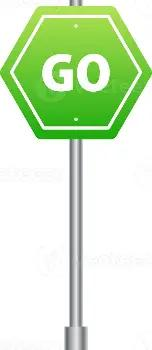Go: (2, 6, 150, 138)
